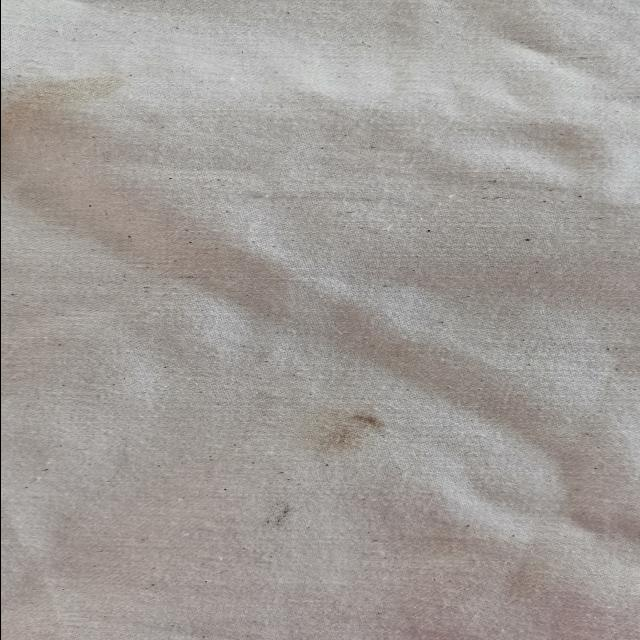taaaches: (290, 408, 386, 462), (240, 495, 308, 536)
